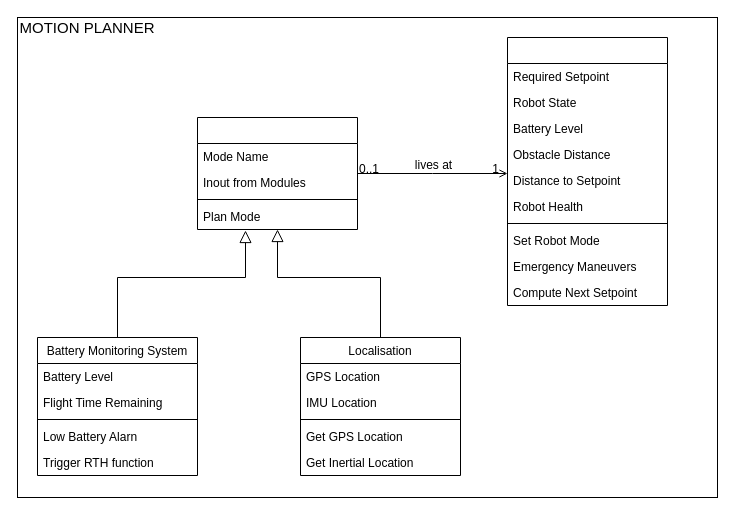
This 735x515 diagram has some shape labels left out. Each missing label, with the box of its shape:
Mode Select: (196, 116, 358, 230)
Planner: (506, 36, 668, 306)
